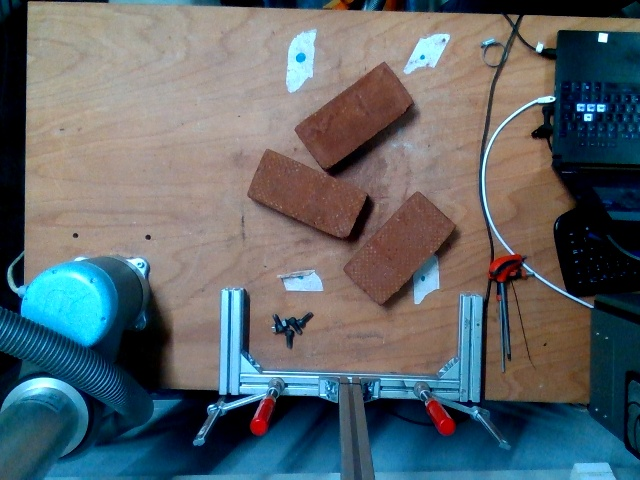brick: (295, 60, 416, 170), (343, 189, 455, 306), (248, 148, 367, 239)
